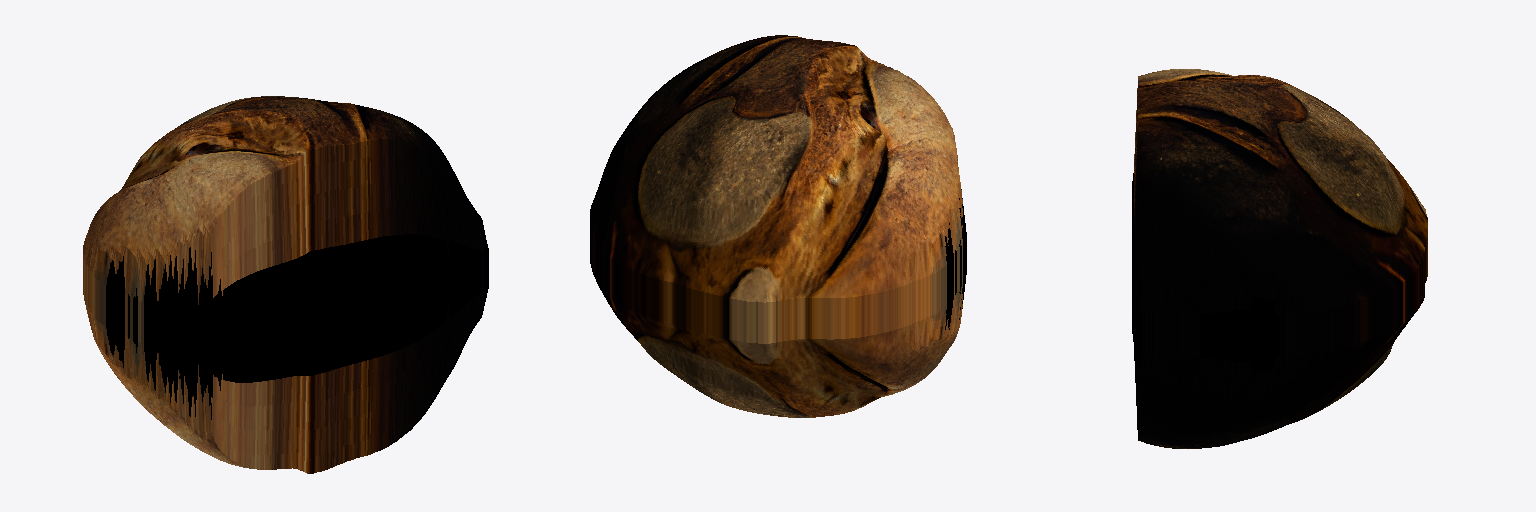
The picture shows the model from 3 angles: view 1: azimuth 30°, elevation 25°; view 2: azimuth 150°, elevation 25°; view 3: azimuth 270°, elevation 25°; orthographic projection.
Parts seen in each view (by area): view 1: Grid; view 2: Grid; view 3: Grid.
Part boxes in pixels (x1,y1,x2,y2): Grid: (83,96,488,473); Grid: (590,35,966,417); Grid: (1132,69,1427,448).
Size of the model in its own units: 2 by 2 by 1.57.
Materials: 1 (1 with a texture image).